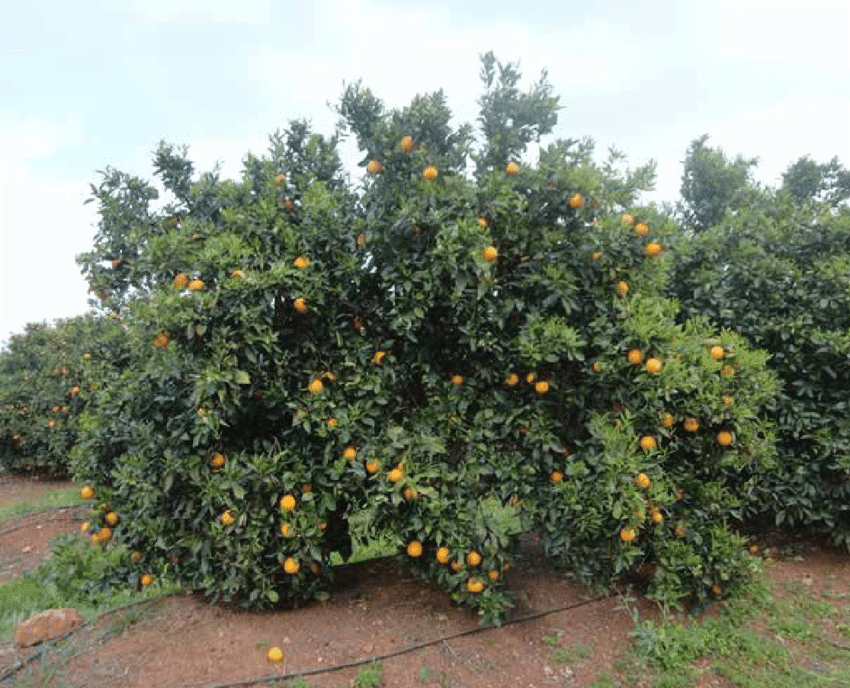orange: (639, 433, 661, 455), (625, 346, 646, 365), (293, 296, 315, 314), (280, 197, 303, 214), (482, 246, 505, 263), (293, 252, 313, 271), (645, 239, 664, 259), (719, 363, 739, 382), (630, 502, 649, 522), (79, 484, 98, 504), (406, 222, 431, 237), (151, 331, 170, 350), (278, 520, 297, 539), (564, 190, 584, 208), (643, 355, 663, 373), (423, 163, 441, 182), (370, 349, 388, 368), (306, 376, 325, 394), (614, 276, 631, 296), (354, 233, 375, 249), (341, 445, 359, 463), (720, 390, 738, 408), (634, 472, 651, 491), (547, 469, 566, 486), (281, 557, 298, 576), (184, 278, 204, 294), (435, 545, 451, 565), (217, 510, 238, 525), (400, 134, 417, 152), (621, 210, 639, 227), (170, 271, 188, 288), (109, 253, 127, 270), (388, 467, 406, 484), (717, 429, 734, 447), (659, 410, 676, 428), (619, 526, 637, 543), (466, 549, 484, 566), (466, 577, 484, 594), (450, 371, 469, 387), (209, 452, 225, 471), (364, 457, 381, 474), (474, 214, 492, 230), (229, 266, 247, 282), (404, 484, 420, 502), (709, 343, 727, 359), (650, 510, 668, 526), (588, 357, 604, 375), (590, 248, 606, 265), (351, 315, 368, 331), (322, 366, 339, 382), (408, 539, 425, 555), (277, 492, 294, 508), (685, 414, 700, 432), (488, 565, 503, 583), (327, 412, 341, 431), (367, 158, 382, 174), (635, 221, 650, 237), (504, 160, 522, 173), (505, 371, 519, 386), (524, 369, 538, 383), (611, 396, 625, 410), (273, 170, 288, 183), (92, 534, 107, 547), (103, 510, 119, 522), (449, 558, 463, 571), (536, 378, 547, 394), (298, 480, 311, 493), (142, 573, 155, 586), (612, 416, 623, 431), (308, 561, 321, 573), (99, 529, 112, 541), (317, 518, 327, 531), (69, 384, 82, 393), (79, 522, 90, 532), (131, 553, 142, 563), (59, 404, 70, 413), (82, 352, 92, 361), (47, 418, 55, 427), (52, 402, 60, 411)
